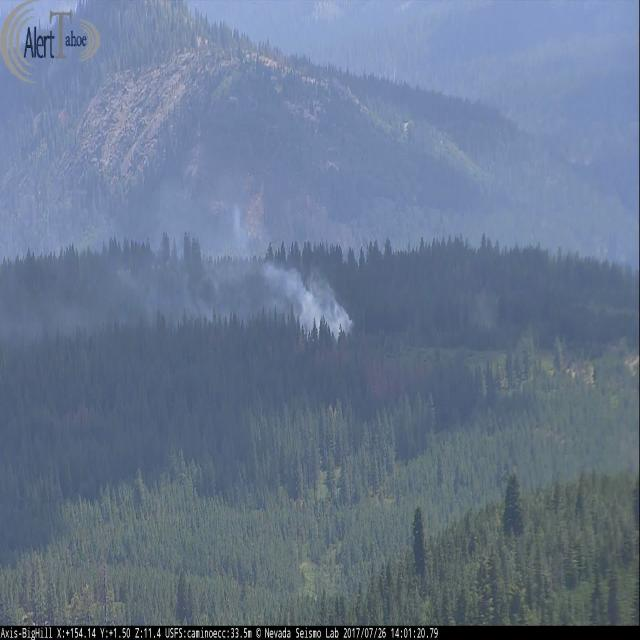smoke: (133, 188, 358, 338)
